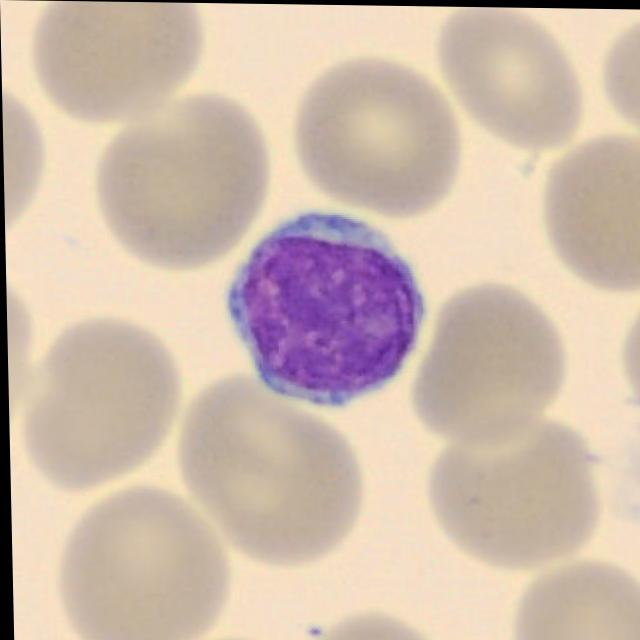Linfocito atipico: (227, 208, 423, 404)
